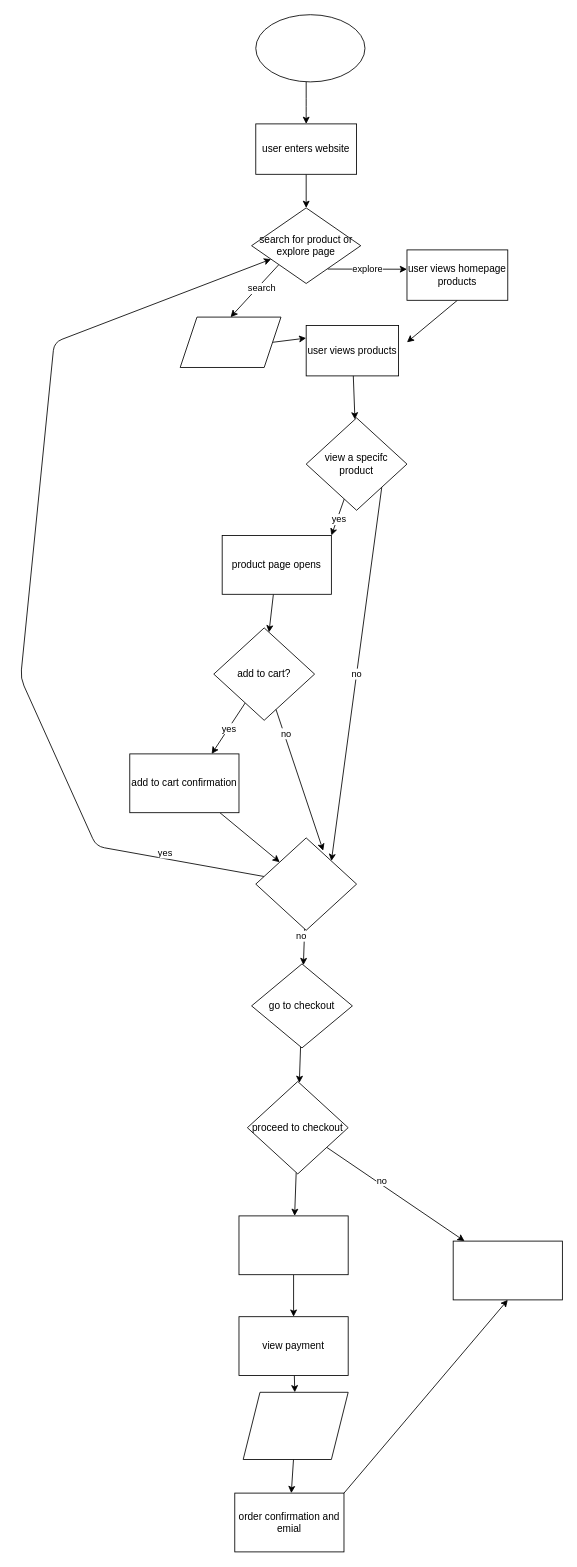
The diagram is 577 pixels wide and 1567 high, and some of its shapes have lost their labels. The shapes that lost their labels are listed below. From the top down, each one's centre as x and y in pixels, then its label:
At (310,48): "start".
At (230,342): "search input".
At (306,883): "cintinue shopping?".
At (293,1245): "view cart".
At (507,1270): "leave webpage".
At (295,1425): "add payment info".
